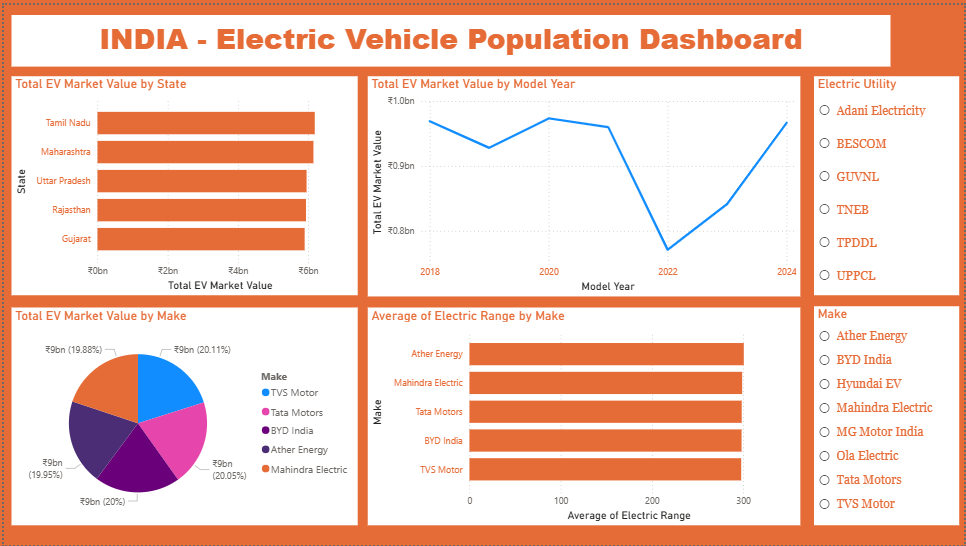

The page's visual inventory and layout, read from the dashboard file:
{"tool":"powerbi","page":{"name":"Page 1","canvas":[1280,720],"ordinal":0},"visuals":[{"type":"textbox","box":[9.6,13.7,1171.9,68.6],"z":0},{"type":"barChart","fields":{"Category":["India_EV_Dataset.State"],"Y":["Sum(India_EV_Dataset.Base MSRP)"]},"box":[10,95,461.7,291.7],"z":1000},{"type":"lineChart","fields":{"Y":["Sum(India_EV_Dataset.Base MSRP)"],"Category":["India_EV_Dataset.Model Year"]},"box":[485,95,576.7,293.3],"z":3000},{"type":"clusteredBarChart","fields":{"Category":["India_EV_Dataset.Make"],"Y":["Avg(India_EV_Dataset.Electric Range)"]},"box":[485,403.3,576.7,290],"z":4000},{"type":"pieChart","fields":{"Category":["India_EV_Dataset.Make"],"Y":["Sum(India_EV_Dataset.Base MSRP)"]},"box":[10,403.3,461.7,290],"z":4001},{"type":"listSlicer","fields":{"Values":["India_EV_Dataset.Electric Utility"]},"box":[1080,95,193.3,291.7],"z":4003},{"type":"listSlicer","fields":{"Values":["India_EV_Dataset.Make"]},"box":[1080,401.7,193.3,291.7],"z":4004}]}

Visuals, with their boxes in screenshot pixels (x1, y1, x2, y2), scaled from the page's 1280x720 canvas onto the 966x546 screenshot:
textbox: bbox(7, 10, 892, 62)
barChart - India_EV_Dataset.State x Sum(India_EV_Dataset.Base MSRP): bbox(8, 72, 356, 293)
lineChart - Sum(India_EV_Dataset.Base MSRP) x India_EV_Dataset.Model Year: bbox(366, 72, 801, 294)
clusteredBarChart - India_EV_Dataset.Make x Avg(India_EV_Dataset.Electric Range): bbox(366, 306, 801, 526)
pieChart - India_EV_Dataset.Make x Sum(India_EV_Dataset.Base MSRP): bbox(8, 306, 356, 526)
listSlicer - India_EV_Dataset.Electric Utility: bbox(815, 72, 961, 293)
listSlicer - India_EV_Dataset.Make: bbox(815, 305, 961, 526)
